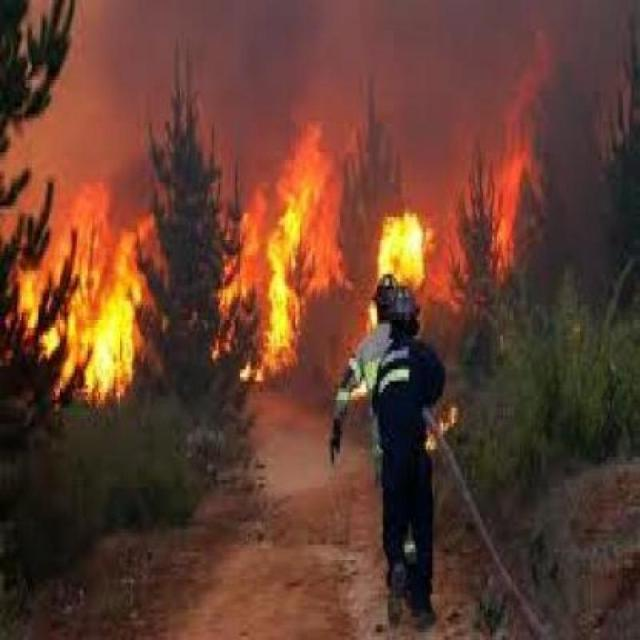Fire: (243, 168, 455, 370), (0, 180, 170, 425)
Smoke: (130, 0, 503, 155)
